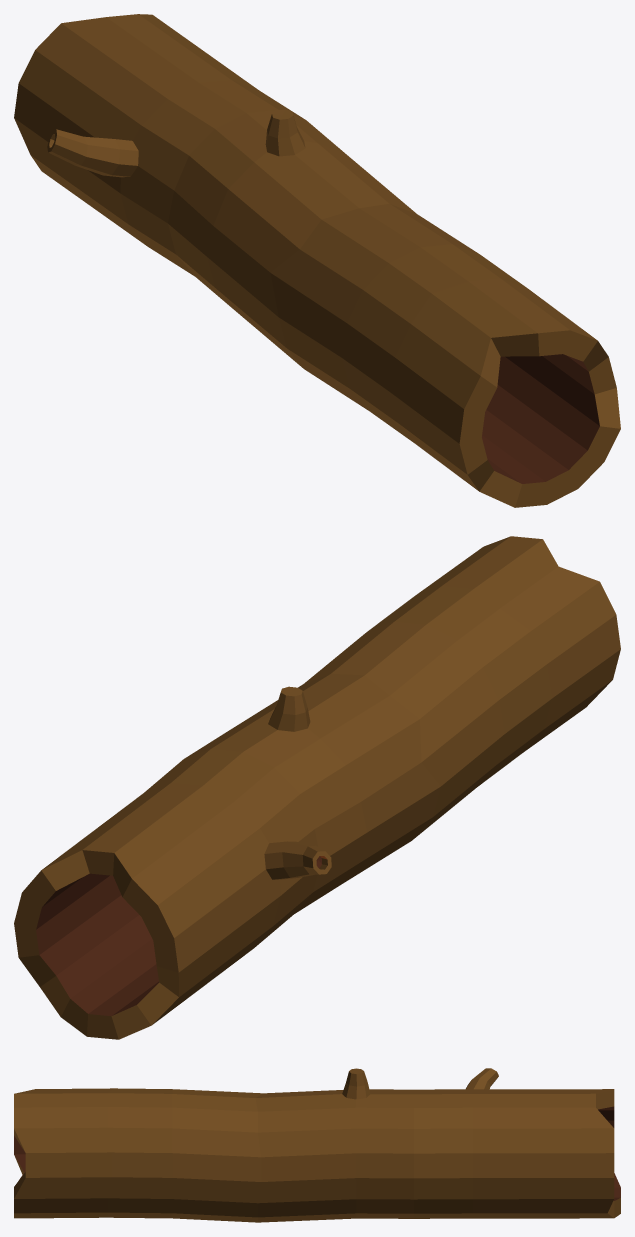
The model's file is log_001.glb.
3 renders of one model, top to bottom at view 1: azimuth 30°, elevation 25°; view 2: azimuth 150°, elevation 25°; view 3: azimuth 270°, elevation 25°, orthographic. The views are drawn at different scales.
Parts seen in each view (by area): view 1: log.001; view 2: log.001; view 3: log.001.
Boxes of the visible parts, bbox=[...] form: log.001: bbox=[14, 14, 620, 507]; log.001: bbox=[14, 536, 620, 1039]; log.001: bbox=[14, 1068, 620, 1222].
Size of the model in its own units: 2.52 by 2.24 by 8.57.
1 material, 1 textured.
